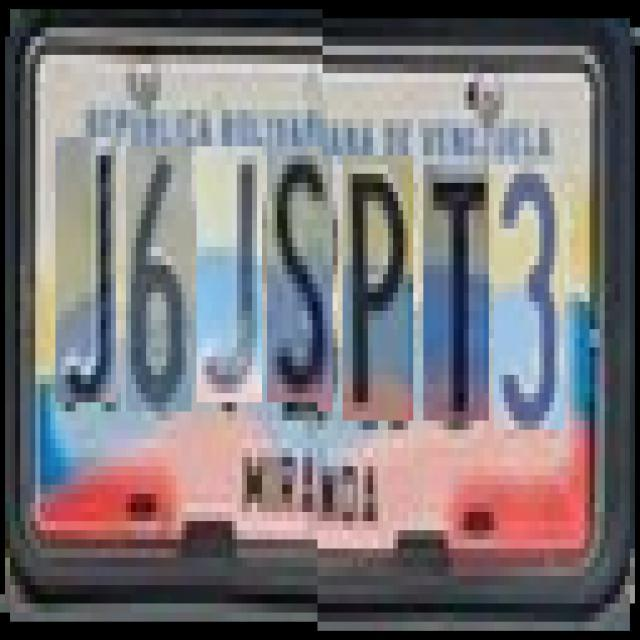3: (494, 156, 564, 420)
6: (126, 146, 192, 412)
J: (196, 146, 262, 402), (55, 137, 116, 402)
P: (343, 146, 413, 412)
S: (267, 146, 333, 402)
T: (423, 156, 489, 412)
